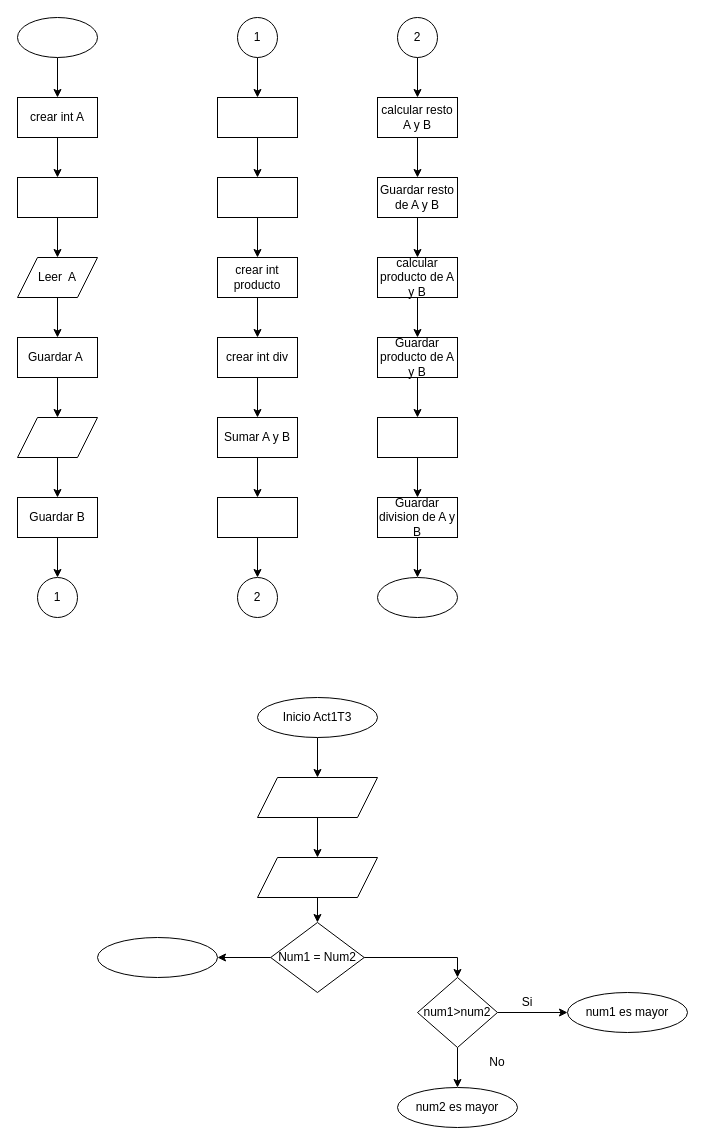
The diagram is 705 pixels wide and 1145 high, and some of its shapes have lost their labels. Here are the shapes that lost their labels. From the top down, the centre of each, then its label:
At pixel 57 37: "INICIO Act1 T1".
At pixel 257 117: "crear int suma".
At pixel 57 197: "crear int B".
At pixel 257 197: "crear int resto".
At pixel 57 437: "Leer B".
At pixel 417 437: "calcular division de A y B".
At pixel 257 517: "Guardar Suma de A y B".
At pixel 417 597: "fin Act1 T1".
At pixel 317 797: "Leer numero 1".
At pixel 317 877: "Leer numero 2".
At pixel 157 957: "Fin son iguales".
